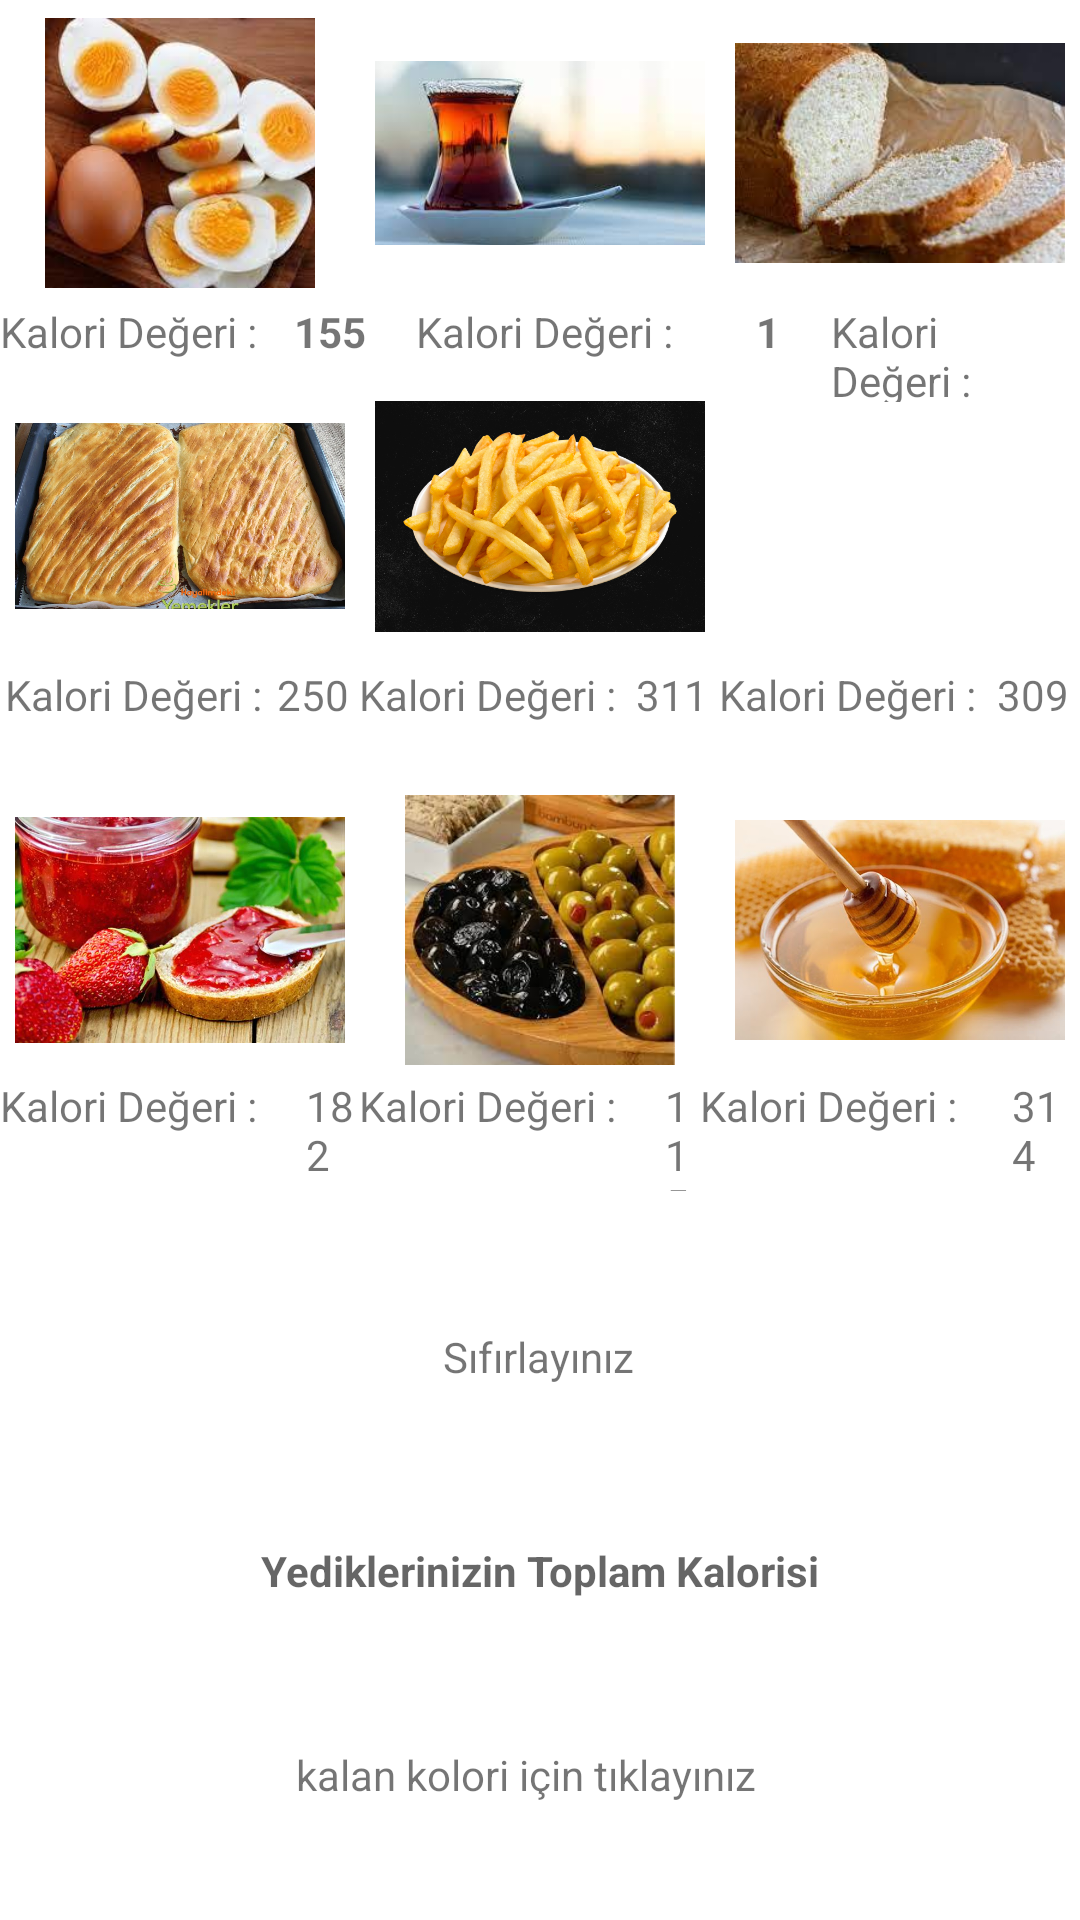

Icons on this 1080x1920 Android screen, each with the point to tap as [x,y]:
bal: [900,930]
cay: [540,153]
ekmek: [900,153]
katmer: [180,516]
patates: [540,516]
recel: [180,930]
yumurta: [180,153]
zeytin: [540,930]
